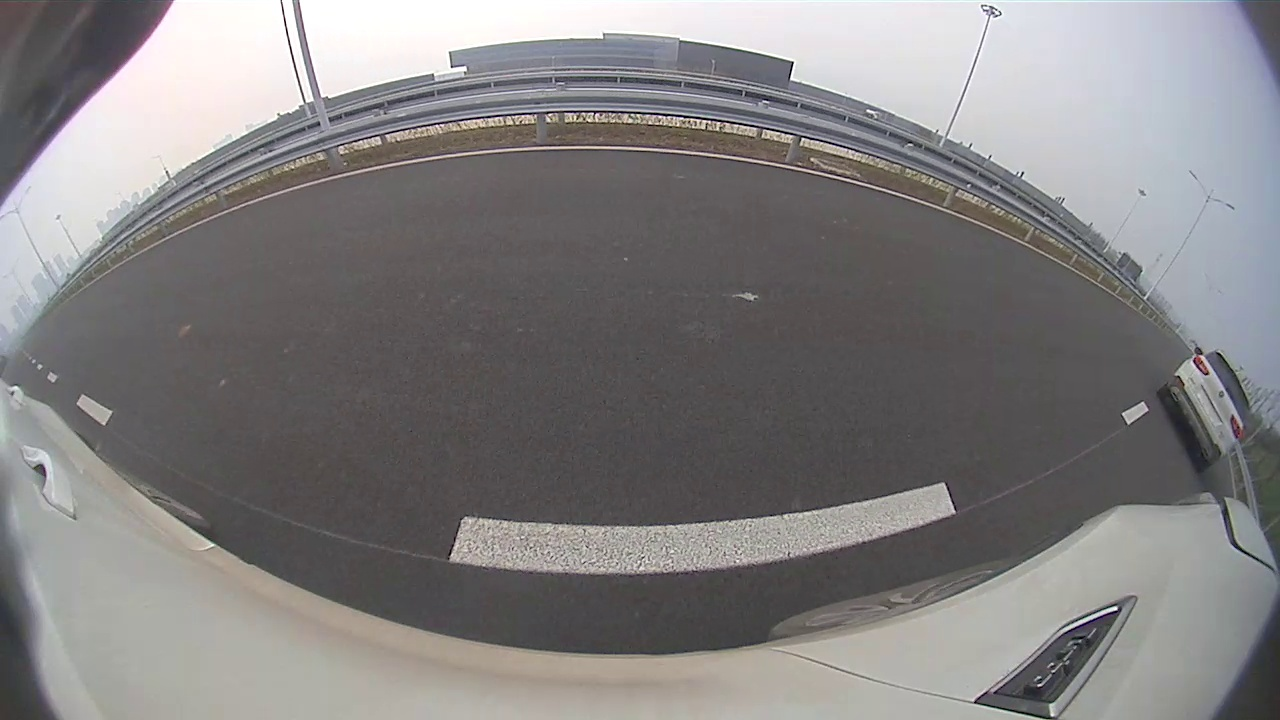car: (797, 53, 1274, 543)
front: (804, 193, 869, 288)
